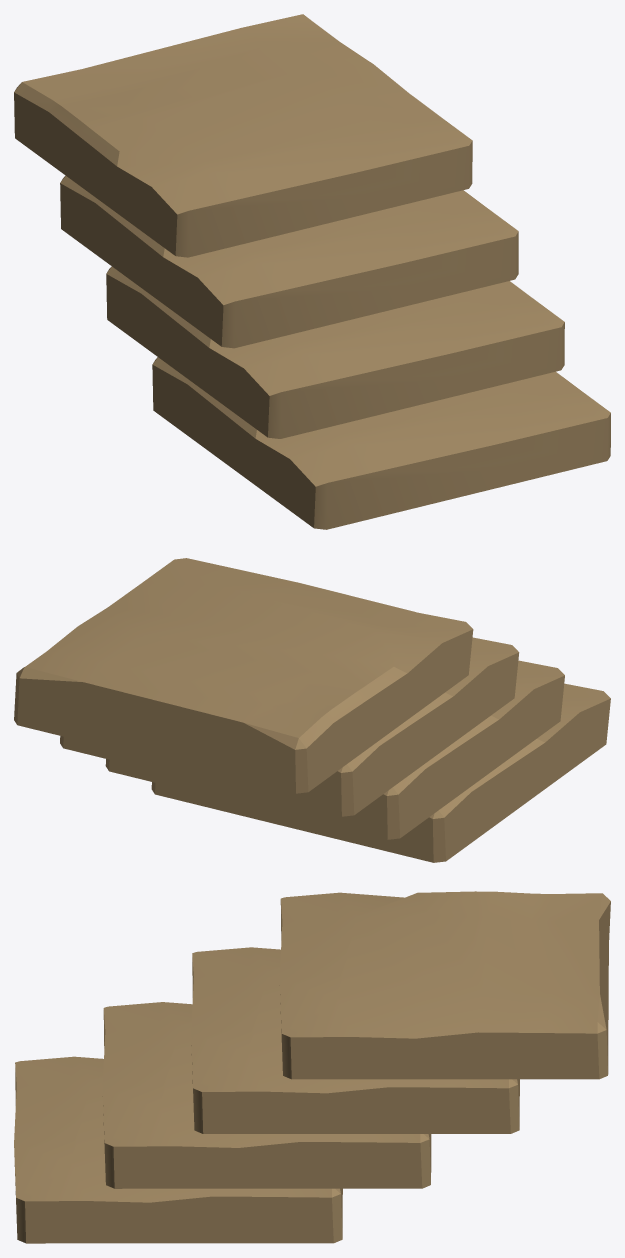
Rendered from Stairs.fbx.
3 views of the same model, one above another, from view 1: azimuth 30°, elevation 25°; view 2: azimuth 150°, elevation 25°; view 3: azimuth 270°, elevation 25° (orthographic). The views are drawn at different scales.
Visible parts, largest first — view 1: Stairs; view 2: Stairs; view 3: Stairs.
Part boxes in pixels (<box>): Stairs: <box>14,14,610,529</box>; Stairs: <box>14,558,610,862</box>; Stairs: <box>14,891,610,1243</box>.
Size of the model in its own units: 2.02 by 1.47 by 3.63.
